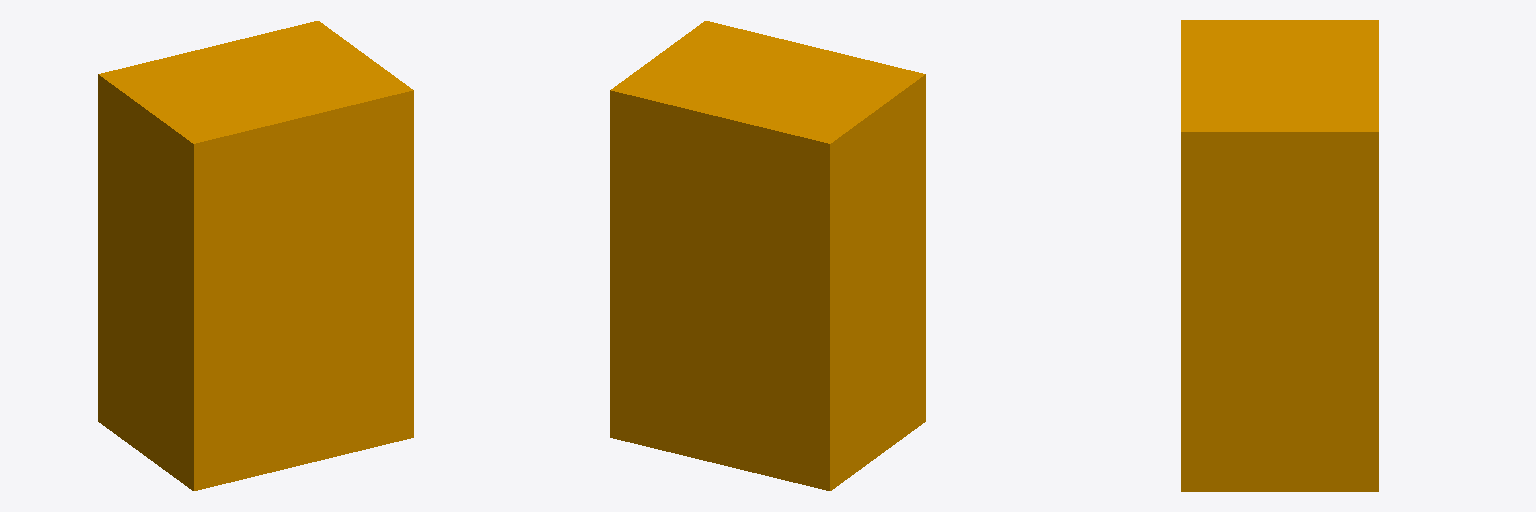
The robot description file, URDF, robot "industreal_round_peg_62mm":
<?xml version="1.0"?>
<robot name="industreal_round_peg_62mm">
    <link name="industreal_round_peg_62mm">
        <visual>
            <geometry>
                <mesh filename="../mesh/industreal_pegs/RectHard_2.obj"/>
            </geometry>
        </visual>
        <collision>
            <geometry>
                <mesh filename="../mesh/industreal_pegs/RectHard_2.obj"/>
            </geometry>
            <sdf resolution="256"/>
        </collision>
    </link>
</robot>

--- Facts derived from the render (not from the file) ---
The picture shows the robot from 3 angles, left to right: view 1: azimuth 30°, elevation 25°; view 2: azimuth 150°, elevation 25°; view 3: azimuth 270°, elevation 25°; orthographic projection.
Model industreal_round_peg_62mm with 1 links and 0 joints (none), rooted at industreal_round_peg_62mm, posed every joint at zero.
Links seen in each view (by area): view 1: industreal_round_peg_62mm; view 2: industreal_round_peg_62mm; view 3: industreal_round_peg_62mm.
Boxes of the visible links, left/top/right/bottom form: industreal_round_peg_62mm: left=98, top=21, right=413, bottom=490; industreal_round_peg_62mm: left=610, top=21, right=925, bottom=490; industreal_round_peg_62mm: left=1181, top=20, right=1378, bottom=491.
Bounding box of the posed robot: 0.0505 × 0.0379 × 0.0762 m (x, y, z).
1 mesh visuals loaded from 1 distinct referenced files (1 OBJ).